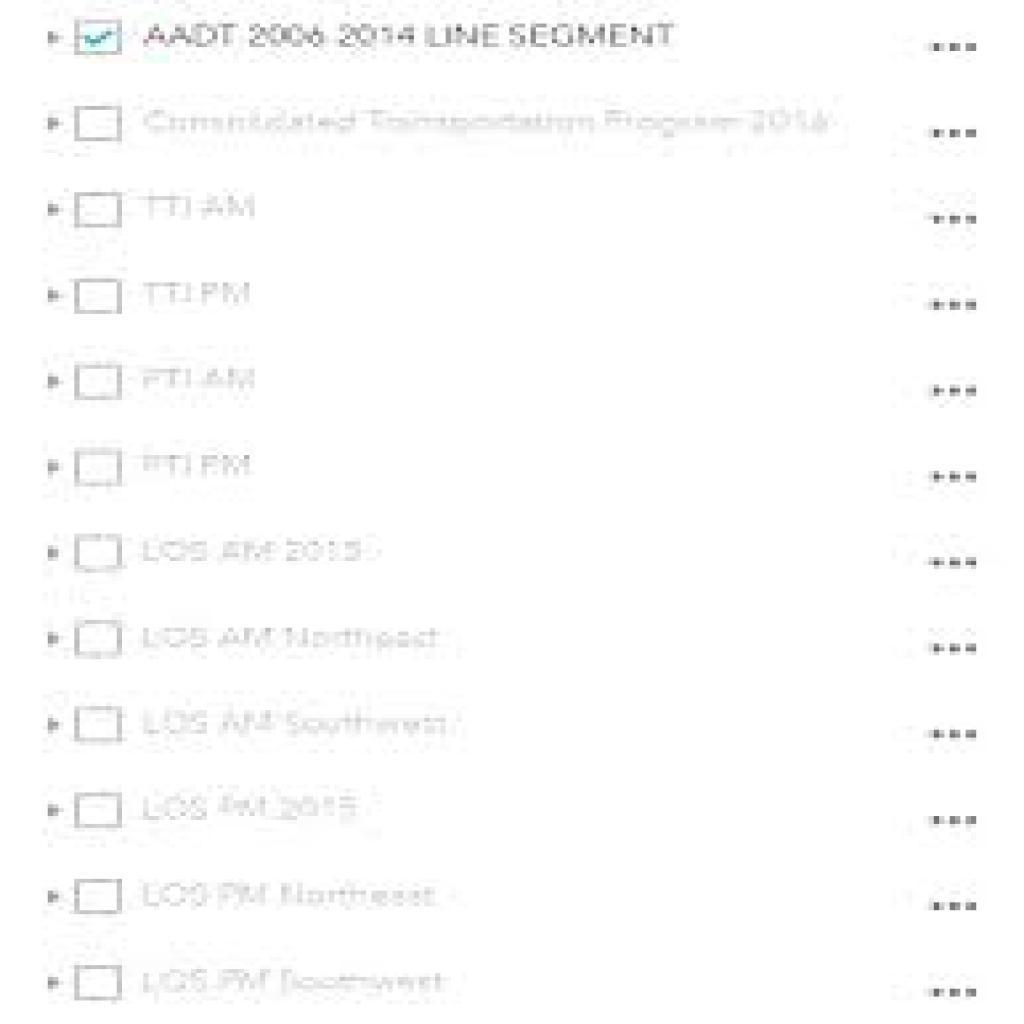checkbox: (73, 448, 127, 492), (73, 617, 125, 662), (73, 876, 126, 918), (73, 532, 124, 575), (72, 105, 124, 145), (73, 706, 125, 746), (75, 16, 124, 58), (75, 964, 125, 1005), (73, 279, 126, 317), (77, 791, 127, 831), (76, 192, 125, 231), (76, 363, 123, 403)
icon: (927, 806, 982, 837), (923, 894, 983, 921), (922, 722, 984, 748), (927, 376, 982, 403), (925, 550, 982, 576), (923, 122, 983, 146), (927, 983, 987, 1007), (928, 34, 983, 60), (929, 208, 980, 236), (930, 462, 980, 490), (927, 636, 981, 661), (929, 296, 987, 318)
label: (138, 102, 836, 142), (139, 19, 679, 49), (143, 700, 459, 742), (138, 964, 449, 1005), (138, 877, 453, 916), (138, 620, 447, 657), (138, 786, 362, 830), (141, 533, 374, 568), (134, 364, 264, 401), (136, 190, 267, 226), (144, 276, 269, 312), (139, 450, 262, 484)
